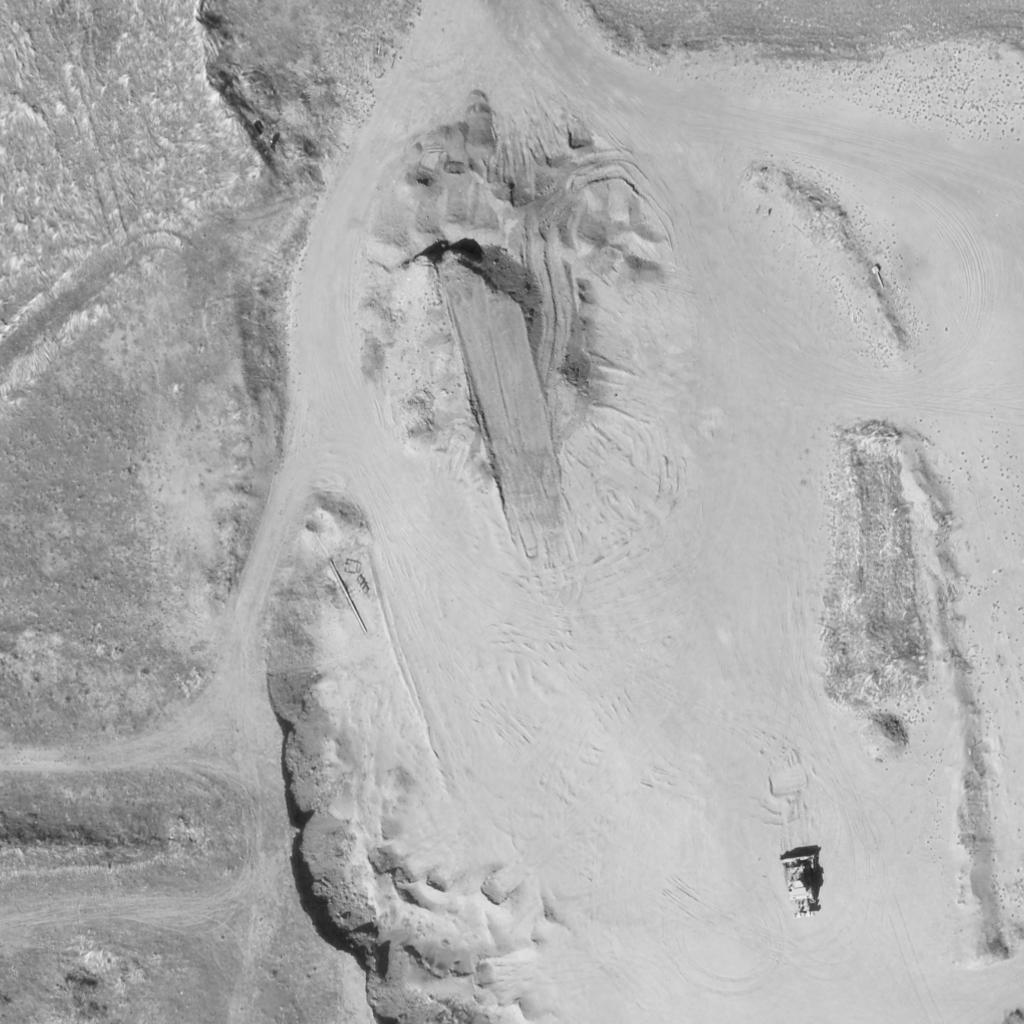vehicle: (778, 855, 824, 921)
